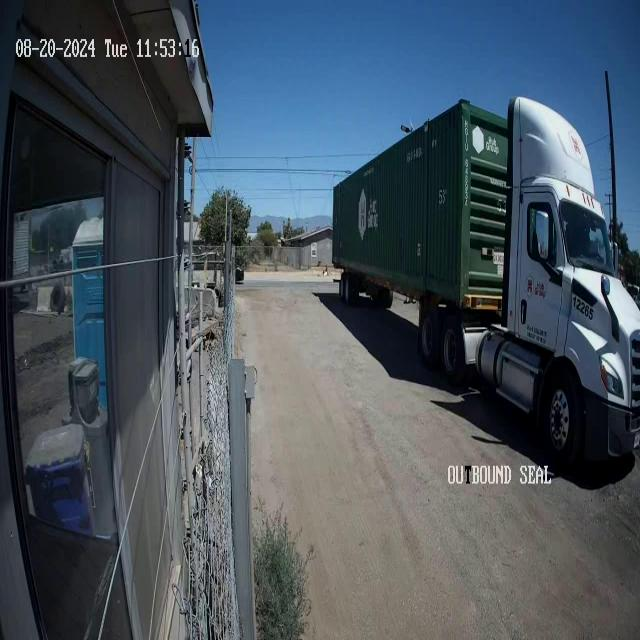CONTAINER: (332, 94, 512, 320)
